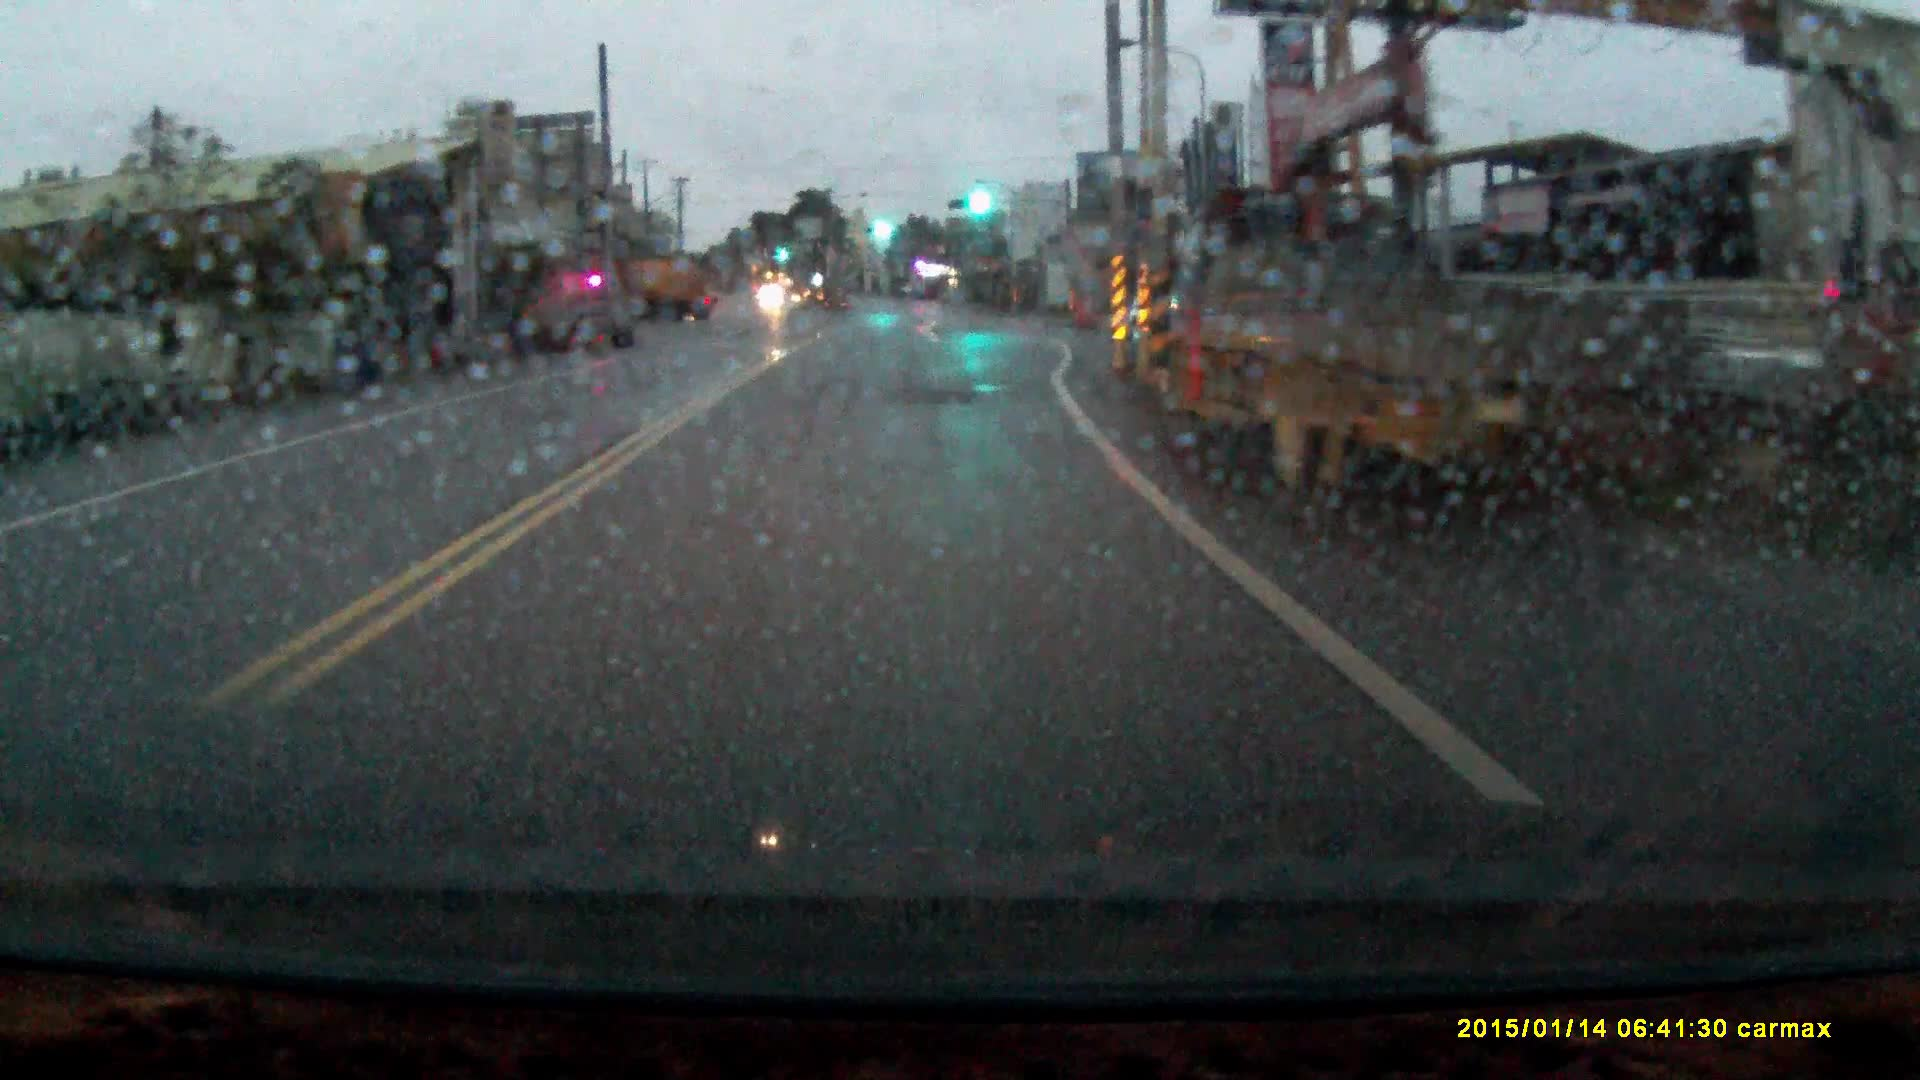vehicle: (1156, 203, 1692, 533), (611, 256, 707, 326), (563, 305, 636, 353)
